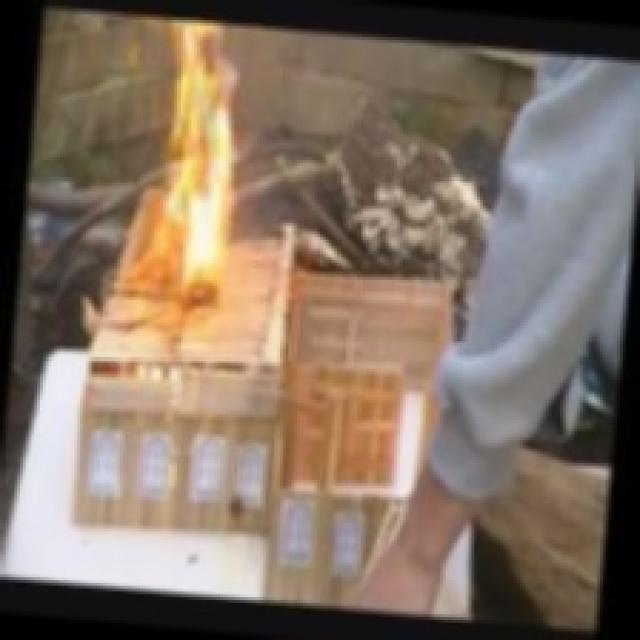fire: (120, 14, 266, 309)
